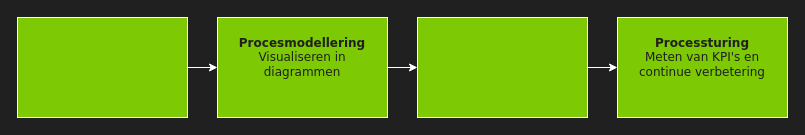
The diagram is 805 pixels wide and 135 high, and some of its shapes have lost their labels. The box of each missing label's shape, as (x1, y1, x2, y2) in pixels:
Procesarchitectuur Overzicht van processen en relaties: (16, 16, 188, 118)
Procesuitwerking Uitwerken van processtappen, rollen en verantwoordelijkheden: (416, 16, 588, 118)
